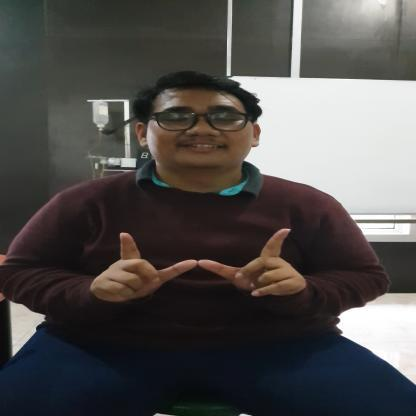W: (93, 227, 307, 302)
